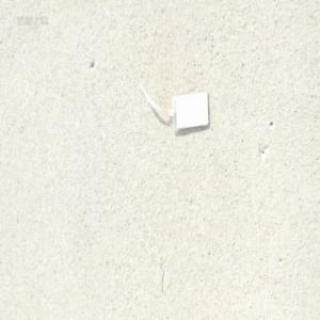LuggageTagtrack_idkeyframe: (134, 71, 209, 132)
